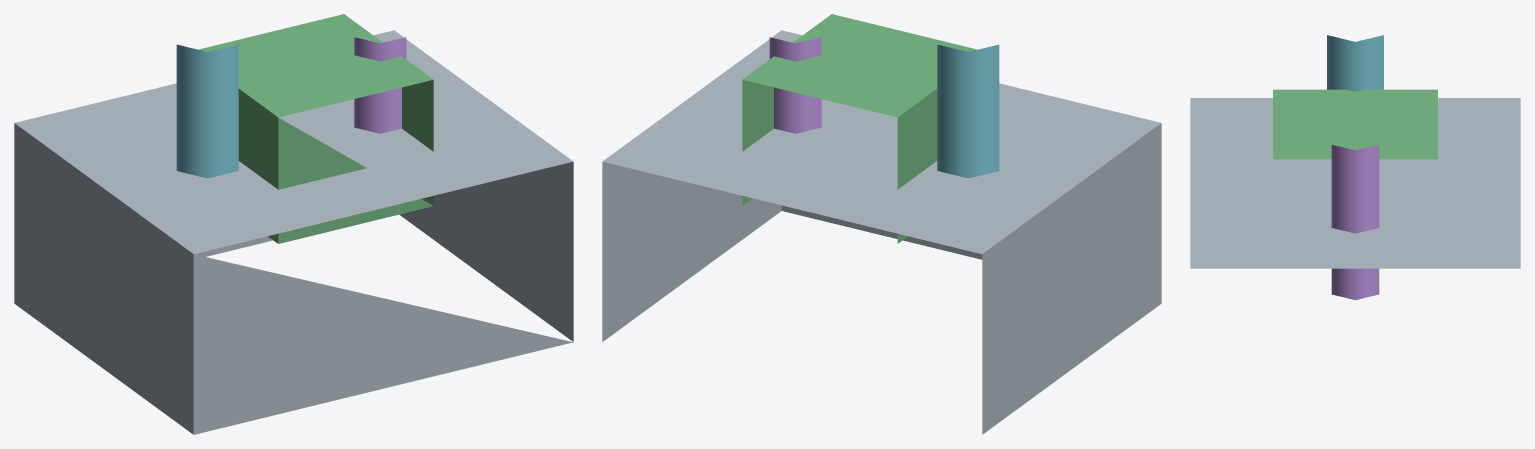
Rendered from ASTX_TERRAIN_REEF.glb.
3 renders of one model, left to right at view 1: azimuth 30°, elevation 25°; view 2: azimuth 150°, elevation 25°; view 3: azimuth 270°, elevation 25°, orthographic. The views are drawn at different scales.
Parts seen in each view (by area): view 1: ASTX_TERRAIN_REEF_rock, ASTX_TERRAIN_REEF_weed, ASTX_TERRAIN_REEF_coralB, ASTX_TERRAIN_REEF_coralP; view 2: ASTX_TERRAIN_REEF_rock, ASTX_TERRAIN_REEF_weed, ASTX_TERRAIN_REEF_coralB, ASTX_TERRAIN_REEF_coralP; view 3: ASTX_TERRAIN_REEF_rock, ASTX_TERRAIN_REEF_weed, ASTX_TERRAIN_REEF_coralP, ASTX_TERRAIN_REEF_coralB.
Part boxes in pixels (x1,y1,x2,y2): ASTX_TERRAIN_REEF_rock: (14,30,573,434); ASTX_TERRAIN_REEF_weed: (198,14,433,243); ASTX_TERRAIN_REEF_coralB: (176,44,238,178); ASTX_TERRAIN_REEF_coralP: (354,37,406,133); ASTX_TERRAIN_REEF_rock: (602,30,1161,434); ASTX_TERRAIN_REEF_weed: (742,14,977,243); ASTX_TERRAIN_REEF_coralB: (937,44,999,178); ASTX_TERRAIN_REEF_coralP: (769,37,821,133); ASTX_TERRAIN_REEF_rock: (1190,98,1520,268); ASTX_TERRAIN_REEF_weed: (1273,89,1437,159); ASTX_TERRAIN_REEF_coralP: (1331,145,1379,299); ASTX_TERRAIN_REEF_coralB: (1327,35,1383,91).
Size of the model in its own units: 2.2 by 1.7 by 1.8.
